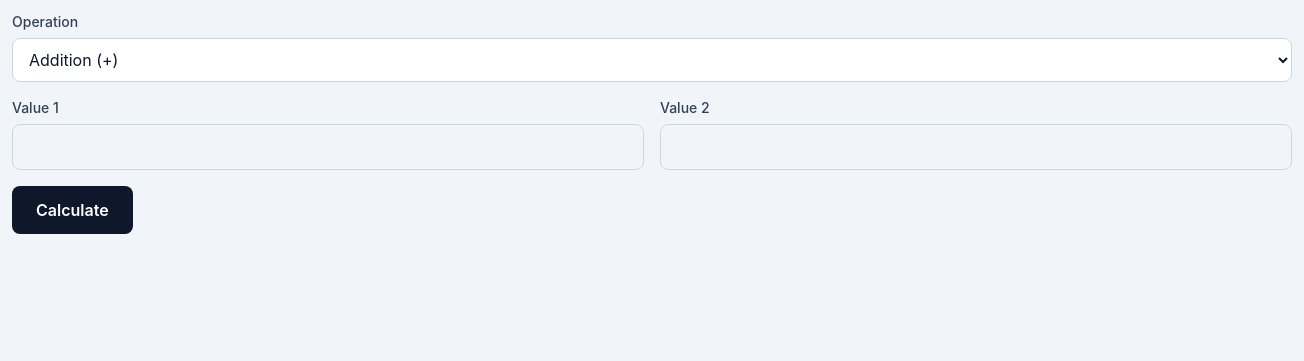
Test: calculation › sends the calculation and displays the result
Check: the dropdown labelled "Operation" is shown, box x1=12 y1=38 x2=1292 y2=82
Type "2" into the field labelled "Value 1" at point(328, 147), box x1=12 y1=124 x2=644 y2=170
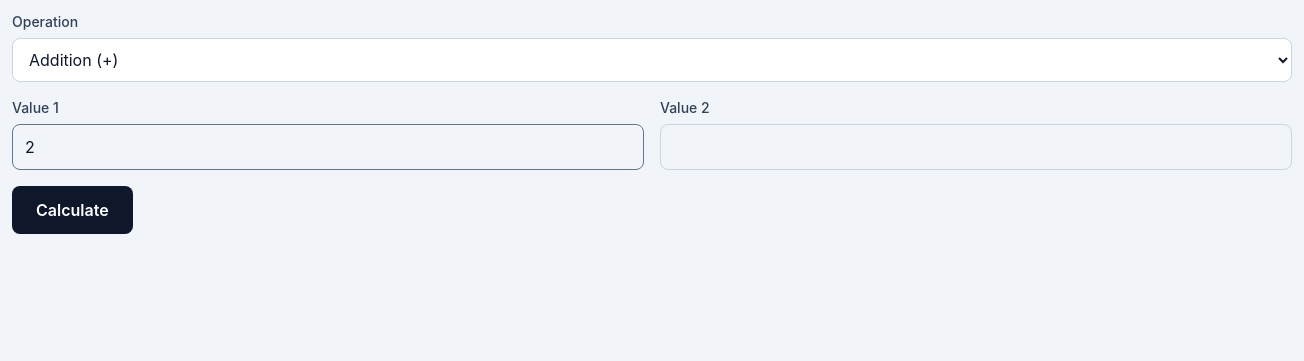
Type "3" into the field labelled "Value 2" at point(976, 147), box x1=660 y1=124 x2=1292 y2=170
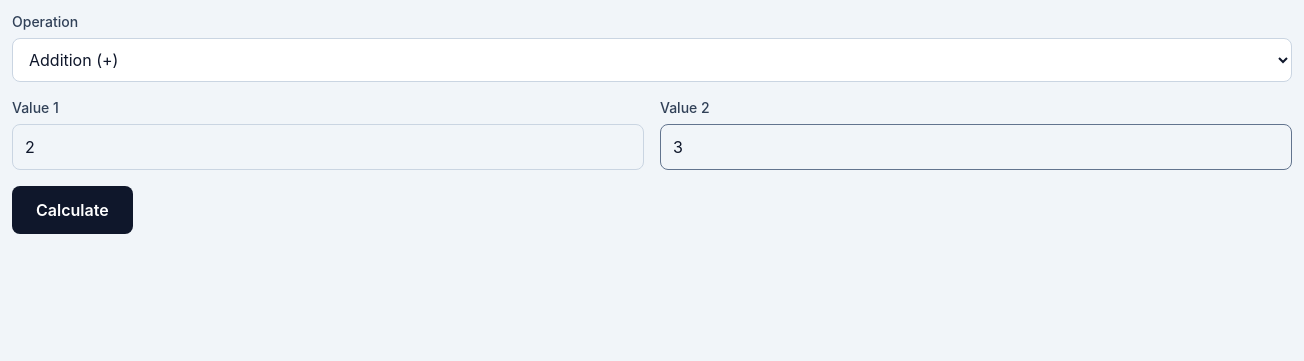
Click the button "Calculate" at point(72, 210), box x1=12 y1=186 x2=133 y2=234
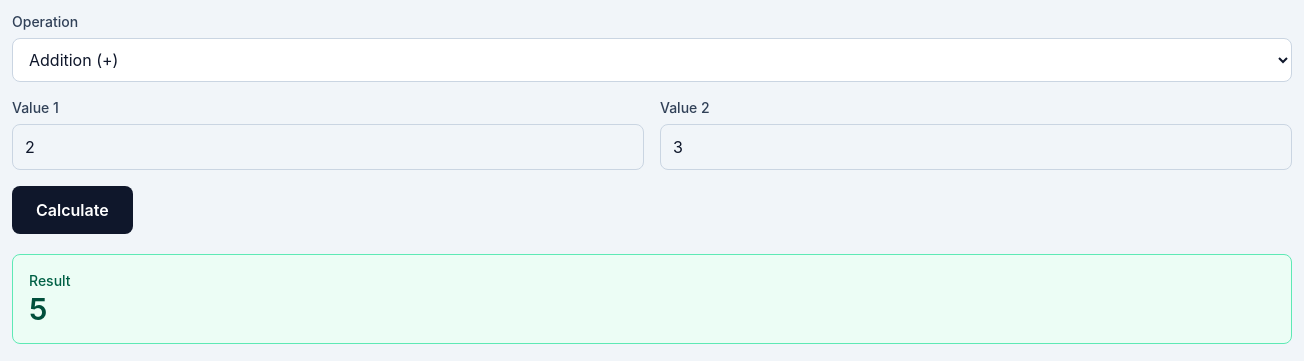
Check: the text "5" is shown, box x1=29 y1=291 x2=47 y2=327
